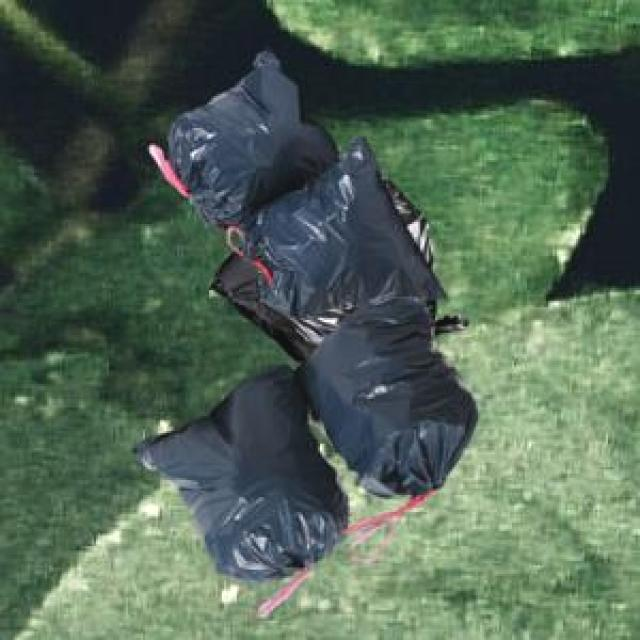Trashbag: (132, 365, 342, 572), (252, 149, 448, 320), (304, 298, 483, 484), (156, 62, 346, 222)
